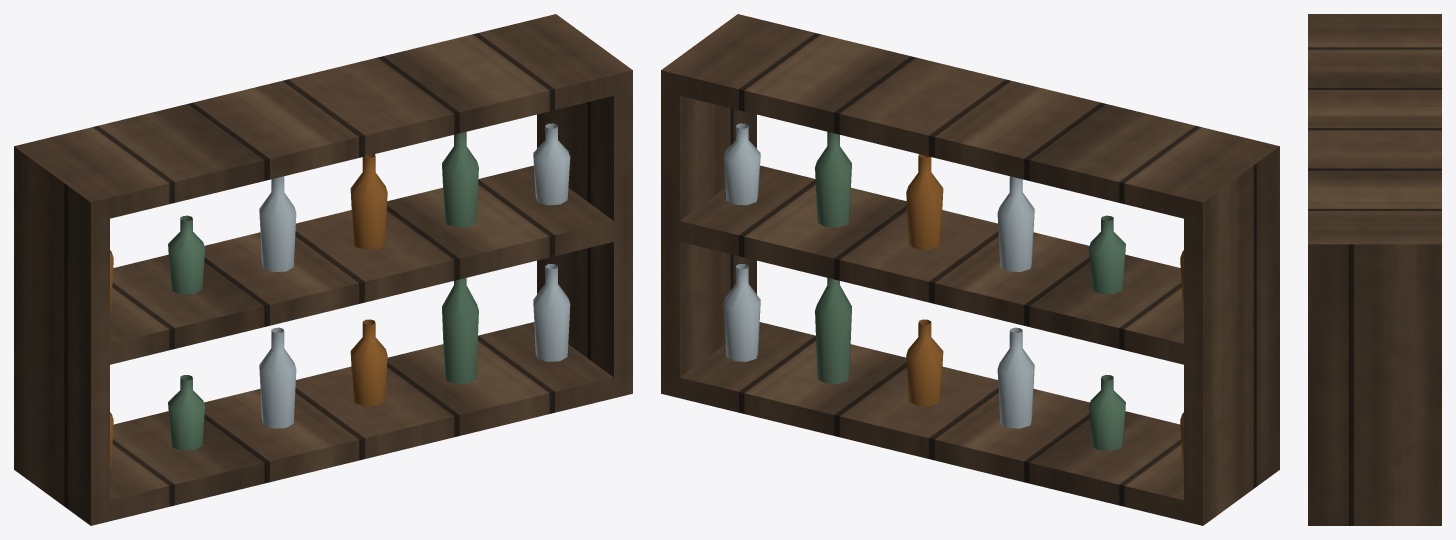
The model's file is Shelf_Small_Bottles.gltf.
The picture shows the model from 3 angles, left to right: view 1: azimuth 30°, elevation 25°; view 2: azimuth 150°, elevation 25°; view 3: azimuth 270°, elevation 25°; orthographic projection. The views are drawn at different scales.
Visible parts, largest first — view 1: Shelf_Small_Bottles; view 2: Shelf_Small_Bottles; view 3: Shelf_Small_Bottles.
Boxes of the visible parts, box(x1,y1,x2,y2) form: Shelf_Small_Bottles: box(14, 14, 632, 525); Shelf_Small_Bottles: box(661, 14, 1279, 525); Shelf_Small_Bottles: box(1308, 14, 1441, 525).
Size of the model in its own units: 1.14 by 0.65 by 0.28.
Materials: 4 (4 with a texture image).
